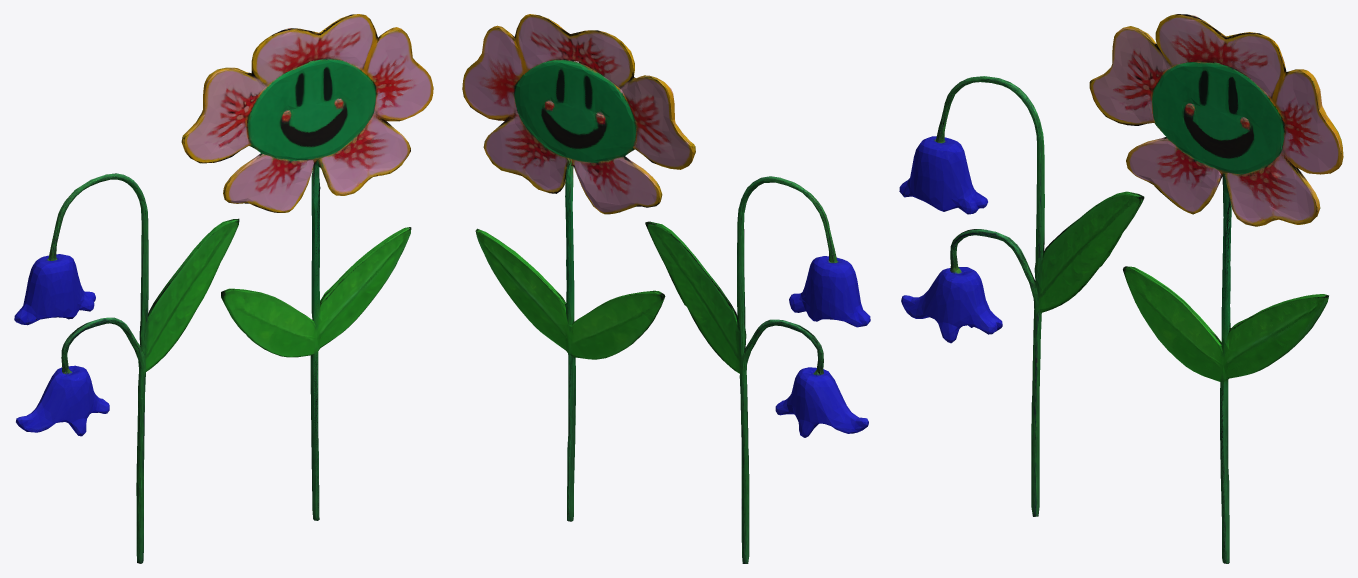
File: icon.glb
3 views of the same model, side by side, from view 1: azimuth 30°, elevation 25°; view 2: azimuth 150°, elevation 25°; view 3: azimuth 330°, elevation 25° (orthographic). The views are drawn at different scales.
Visible parts, largest first — view 1: world; view 2: world; view 3: world.
Part boxes in pixels (box(x1,y1,x2,y2)): world: box(14, 14, 433, 563); world: box(462, 14, 870, 563); world: box(899, 14, 1343, 563).
Bounding box in the file's own units: 0.8643 × 0.9988 × 0.0885.
Materials: 1 (1 with a texture image).
